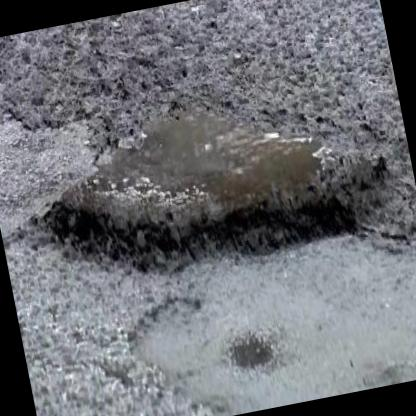pothole: (10, 64, 406, 308), (223, 326, 282, 384)
